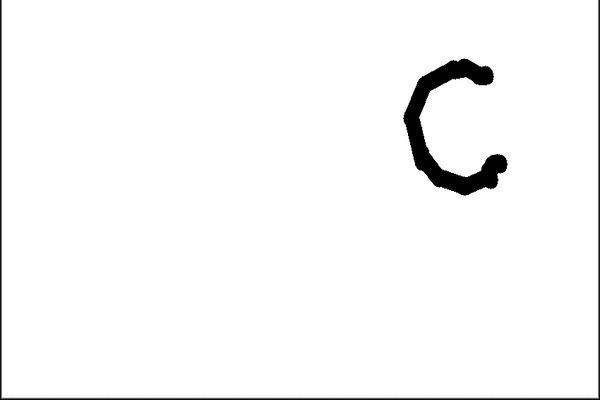C: (398, 53, 511, 197)
